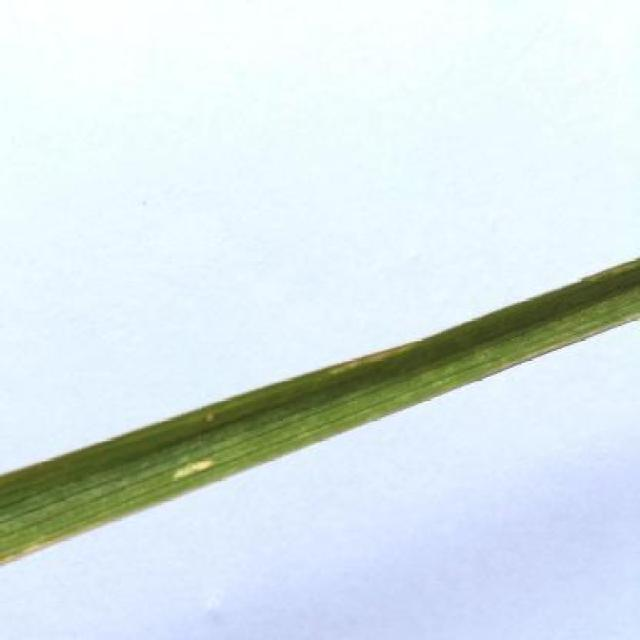Bacterial_Leaf_Blight: (167, 454, 215, 478)
